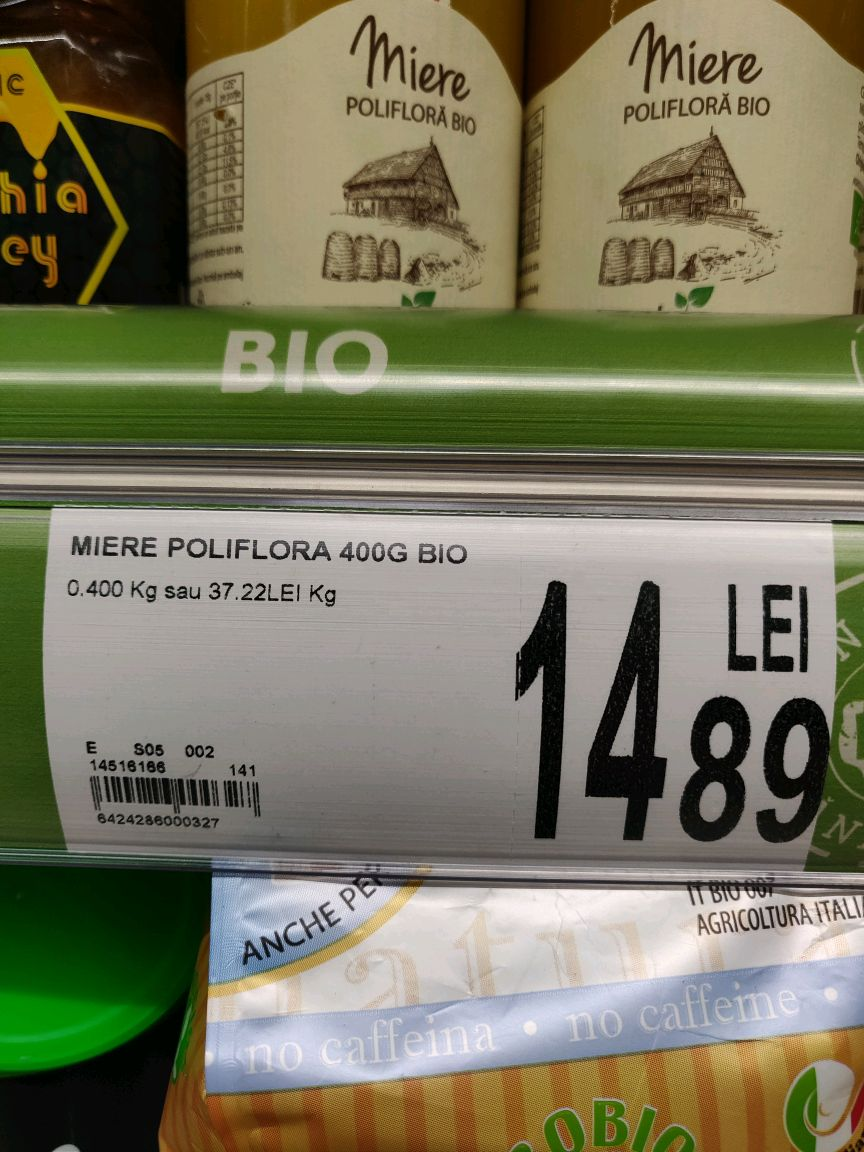price_bani: (678, 694, 848, 852)
price_lei: (502, 570, 673, 845)
price_tag: (25, 496, 845, 892)
product_id: (84, 810, 229, 837)
product_name: (57, 522, 495, 569)
